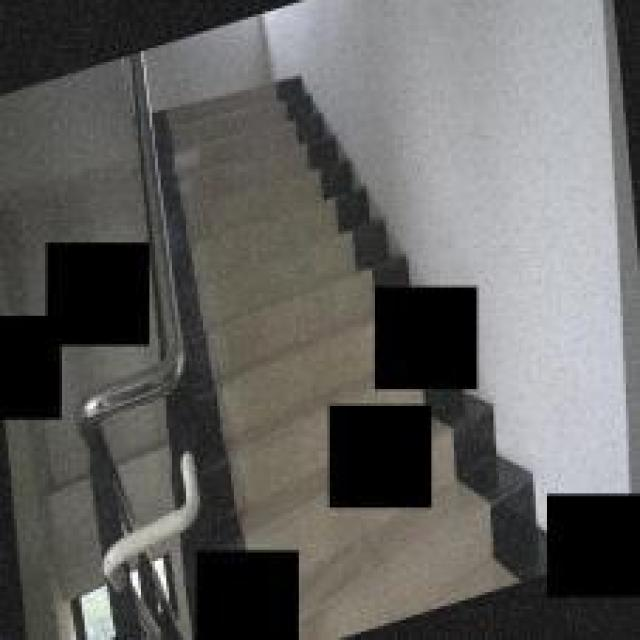upstair: (159, 88, 362, 362)
